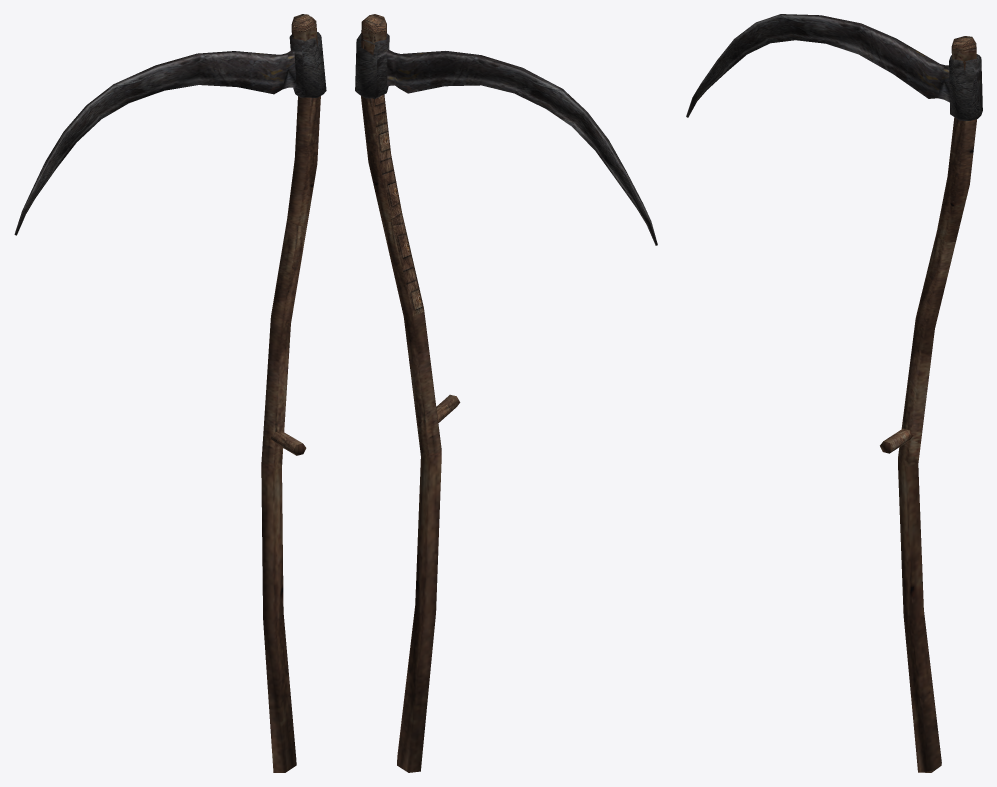
The model's file is tool.dae.
3 renders of one model, left to right at view 1: azimuth 30°, elevation 25°; view 2: azimuth 150°, elevation 25°; view 3: azimuth 330°, elevation 25°, orthographic. The views are drawn at different scales.
Parts seen in each view (by area): view 1: meshU3D; view 2: meshU3D; view 3: meshU3D.
Boxes of the visible parts, <box> form: meshU3D: <box>14,14,326,772</box>; meshU3D: <box>355,14,657,772</box>; meshU3D: <box>686,14,982,772</box>.
Size of the model in its own units: 1.3 by 3.03 by 0.3333.
